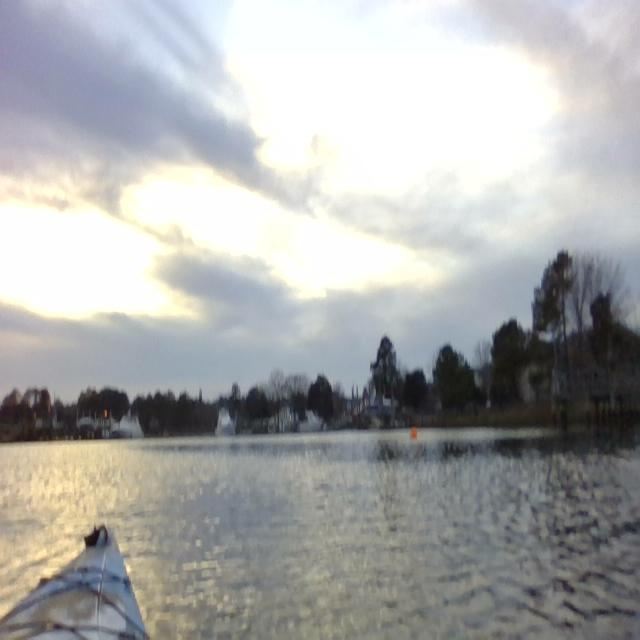Buoy: (409, 424, 418, 440)
